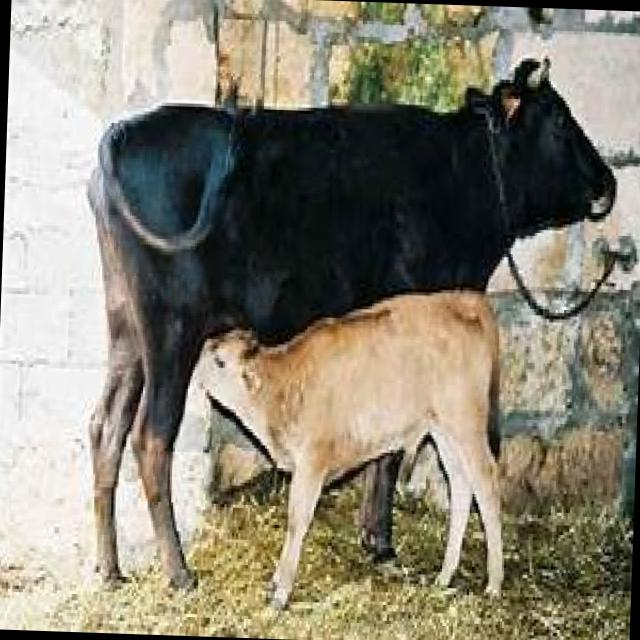cow: (71, 39, 622, 609), (188, 278, 513, 618)
